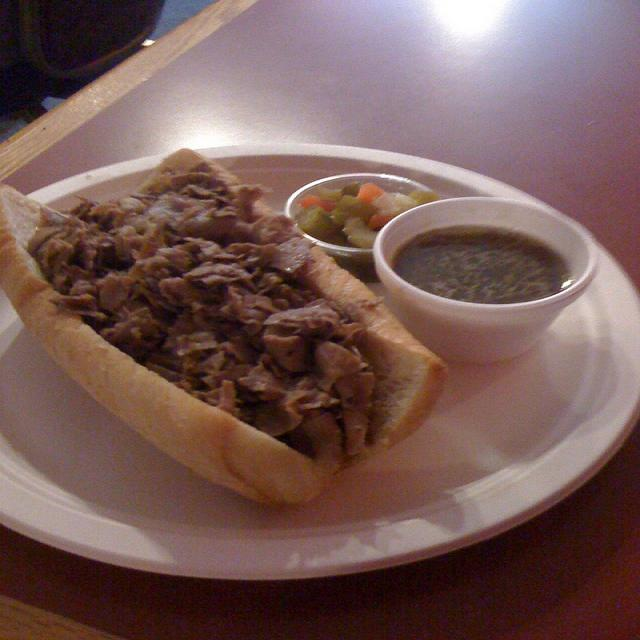chair: (5, 0, 159, 125)
dining table: (6, 3, 640, 640)
